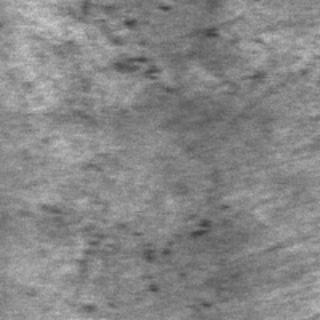rolled pit: (36, 197, 220, 297), (55, 0, 234, 81)
